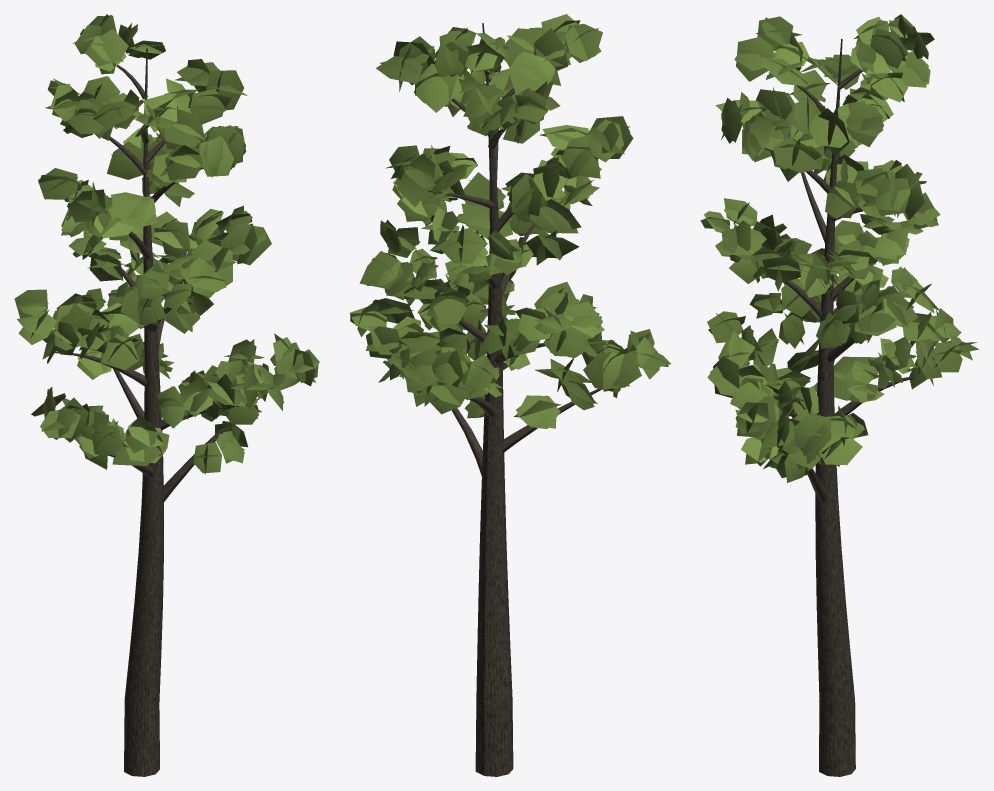
File: upright_02_native_base_T016494_lod1.glb
3 renders of one model, left to right at view 1: azimuth 30°, elevation 25°; view 2: azimuth 150°, elevation 25°; view 3: azimuth 270°, elevation 25°, orthographic. The views are drawn at different scales.
Visible parts, largest first — view 1: individual_curved_leaf_sprigs, retained_branches_1, retained_branches_0; view 2: individual_curved_leaf_sprigs, retained_branches_1, retained_branches_0; view 3: individual_curved_leaf_sprigs, retained_branches_1, retained_branches_0.
Part boxes in pixels (left/top/right/bottom): individual_curved_leaf_sprigs: left=14, top=14, right=319, bottom=474; retained_branches_1: left=55, top=48, right=259, bottom=710; retained_branches_0: left=124, top=704, right=159, bottom=776; individual_curved_leaf_sprigs: left=349, top=14, right=670, bottom=428; retained_branches_1: left=426, top=23, right=601, bottom=706; retained_branches_0: left=475, top=700, right=513, bottom=776; individual_curved_leaf_sprigs: left=700, top=14, right=978, bottom=482; retained_branches_1: left=757, top=39, right=914, bottom=708; retained_branches_0: left=819, top=700, right=855, bottom=776.
Bounding box in the file's own units: 5.22 × 12.87 × 4.37.
2 materials, 1 textured.
